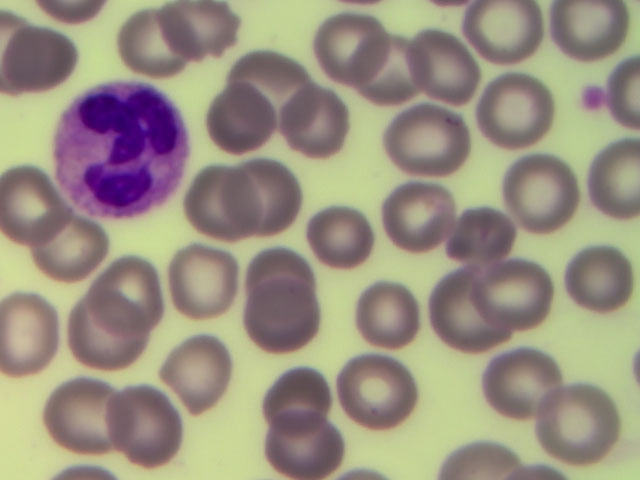Platelets: (577, 83, 607, 112)
RBC: (280, 89, 352, 159), (235, 43, 307, 113), (209, 90, 281, 160), (121, 5, 193, 75), (5, 22, 77, 92), (1, 173, 73, 243), (38, 211, 110, 281), (64, 304, 136, 374), (107, 257, 179, 327), (40, 377, 112, 447), (110, 392, 182, 462), (167, 334, 239, 404), (163, 252, 235, 322), (182, 168, 254, 238), (234, 160, 306, 230), (314, 202, 386, 272), (251, 234, 323, 304), (245, 285, 317, 355), (265, 356, 337, 426), (269, 410, 341, 480), (341, 356, 413, 426), (352, 279, 424, 349), (383, 180, 455, 250), (390, 109, 462, 179), (405, 28, 477, 98), (361, 35, 433, 105), (319, 10, 391, 80), (480, 74, 552, 144), (509, 155, 581, 225), (442, 201, 514, 271), (486, 256, 558, 326), (436, 278, 508, 348), (565, 245, 637, 315), (537, 386, 609, 456), (487, 345, 559, 415), (557, 2, 629, 72), (1, 301, 72, 371), (170, 1, 242, 70), (474, 1, 546, 70), (588, 142, 640, 219)
WBC: (55, 79, 186, 215)
